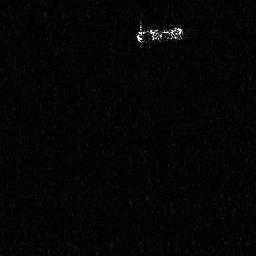ship: (135, 20, 186, 49)
